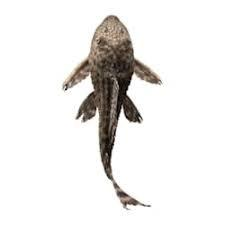Janitor Fish: (62, 15, 163, 209)
